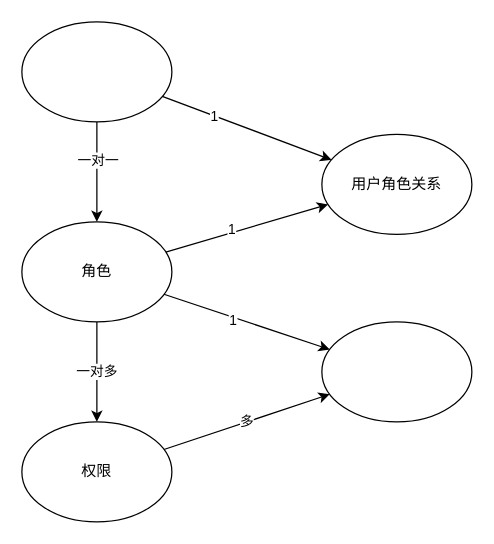
Image size: 494x544. Some labels were removed from this diagram. The shapes that lost their labels are listed below. From the top down, each one's box as (x1, y1, x2, y2) in pixels, then its label:
(21, 21, 172, 122): 用户
(321, 321, 472, 422): 角色权限关系
